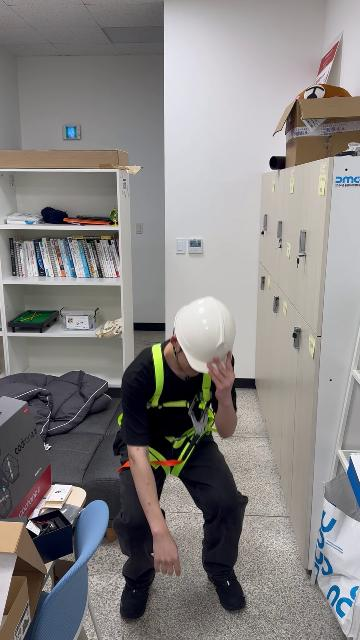helmet_worn: (173, 298, 237, 372)
shoe_worn: (207, 570, 245, 611), (120, 576, 152, 619)
vest_worn: (119, 347, 218, 474)
